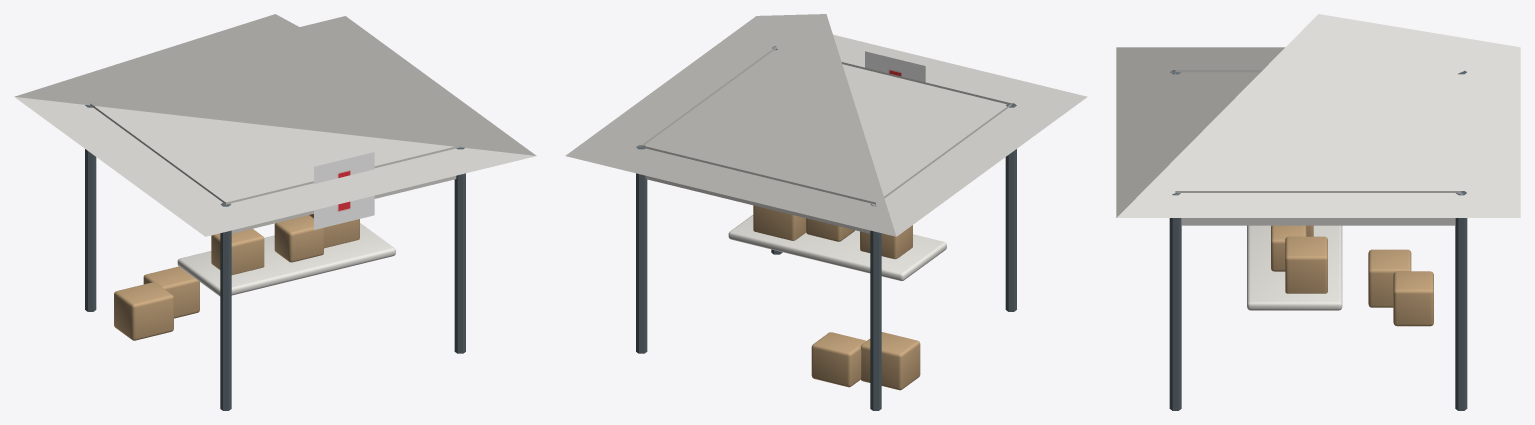
The model's file is carpa_de_socorro.fbx.
3 renders of one model, left to right at view 1: azimuth 30°, elevation 25°; view 2: azimuth 150°, elevation 25°; view 3: azimuth 270°, elevation 25°, orthographic. The views are drawn at different scales.
Visible parts, largest first — view 1: canvas, table, box_04, de_socorro_etiqueta, pole_03, pole_04, pole, box_02, box, box_05, canvas_02, box_03; view 2: canvas, table, canvas_02, box_04, box_05, pole_02, pole, pole_03, box_03, de_socorro_etiqueta, box, box_02; view 3: canvas, table, canvas_02, pole_02, pole_04, box_03, box_05, box_04, box_02.
Boxes of the visible parts, x1=… form: canvas: x1=14, y1=14, x2=536, y2=236; table: x1=177, y1=223, x2=395, y2=296; box_04: x1=114, y1=282, x2=173, y2=340; de_socorro_etiqueta: x1=314, y1=152, x2=374, y2=229; pole_03: x1=220, y1=203, x2=231, y2=410; pole_04: x1=454, y1=147, x2=465, y2=353; pole: x1=85, y1=105, x2=96, y2=311; box_02: x1=274, y1=215, x2=323, y2=262; box: x1=211, y1=229, x2=264, y2=274; box_05: x1=143, y1=266, x2=199, y2=318; canvas_02: x1=90, y1=103, x2=460, y2=233; box_03: x1=309, y1=214, x2=359, y2=248; canvas: x1=565, y1=14, x2=1087, y2=236; table: x1=728, y1=215, x2=946, y2=280; canvas_02: x1=641, y1=46, x2=1011, y2=233; box_04: x1=860, y1=332, x2=920, y2=390; box_05: x1=811, y1=332, x2=866, y2=387; pole_02: x1=636, y1=145, x2=647, y2=353; pole: x1=870, y1=204, x2=881, y2=410; pole_03: x1=1005, y1=103, x2=1016, y2=311; box_03: x1=753, y1=205, x2=806, y2=240; de_socorro_etiqueta: x1=865, y1=51, x2=925, y2=82; box: x1=860, y1=225, x2=912, y2=259; box_02: x1=806, y1=218, x2=854, y2=241; canvas: x1=1116, y1=14, x2=1520, y2=217; table: x1=1247, y1=225, x2=1342, y2=310; canvas_02: x1=1175, y1=70, x2=1461, y2=225; pole_02: x1=1455, y1=191, x2=1467, y2=410; pole_04: x1=1169, y1=193, x2=1181, y2=410; box_03: x1=1285, y1=236, x2=1327, y2=293; box_05: x1=1393, y1=271, x2=1433, y2=326; box_04: x1=1368, y1=249, x2=1411, y2=307; box_02: x1=1271, y1=225, x2=1306, y2=271.
Bounding box in the file's own units: 3.39 × 3.1 × 3.39.
5 materials, 1 textured.
